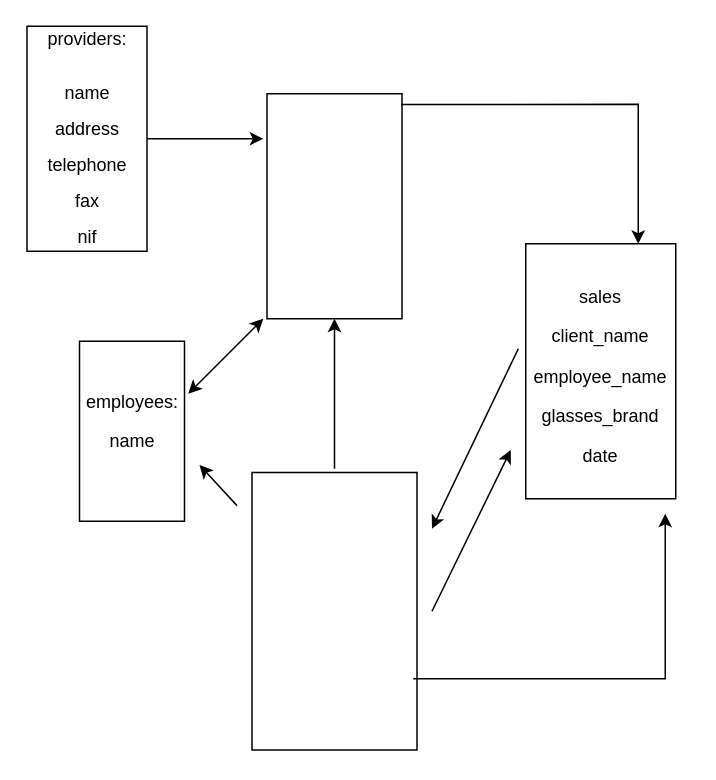
This 716x780 diagram has some shape labels left out. Each missing label, with the centre of its shape:
clients name address telephone, email register_date recommended_by: (333,610)
glasses: brand graduation frame_type frame_color glass_color price provider_name: (334,205)
